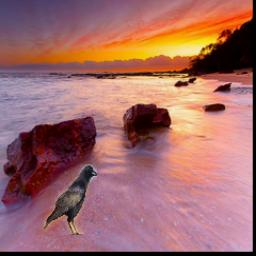Crow: (44, 165, 98, 236)
